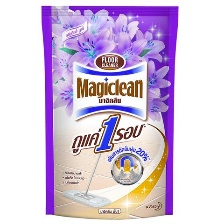cleaning_solution: (38, 1, 181, 222)
